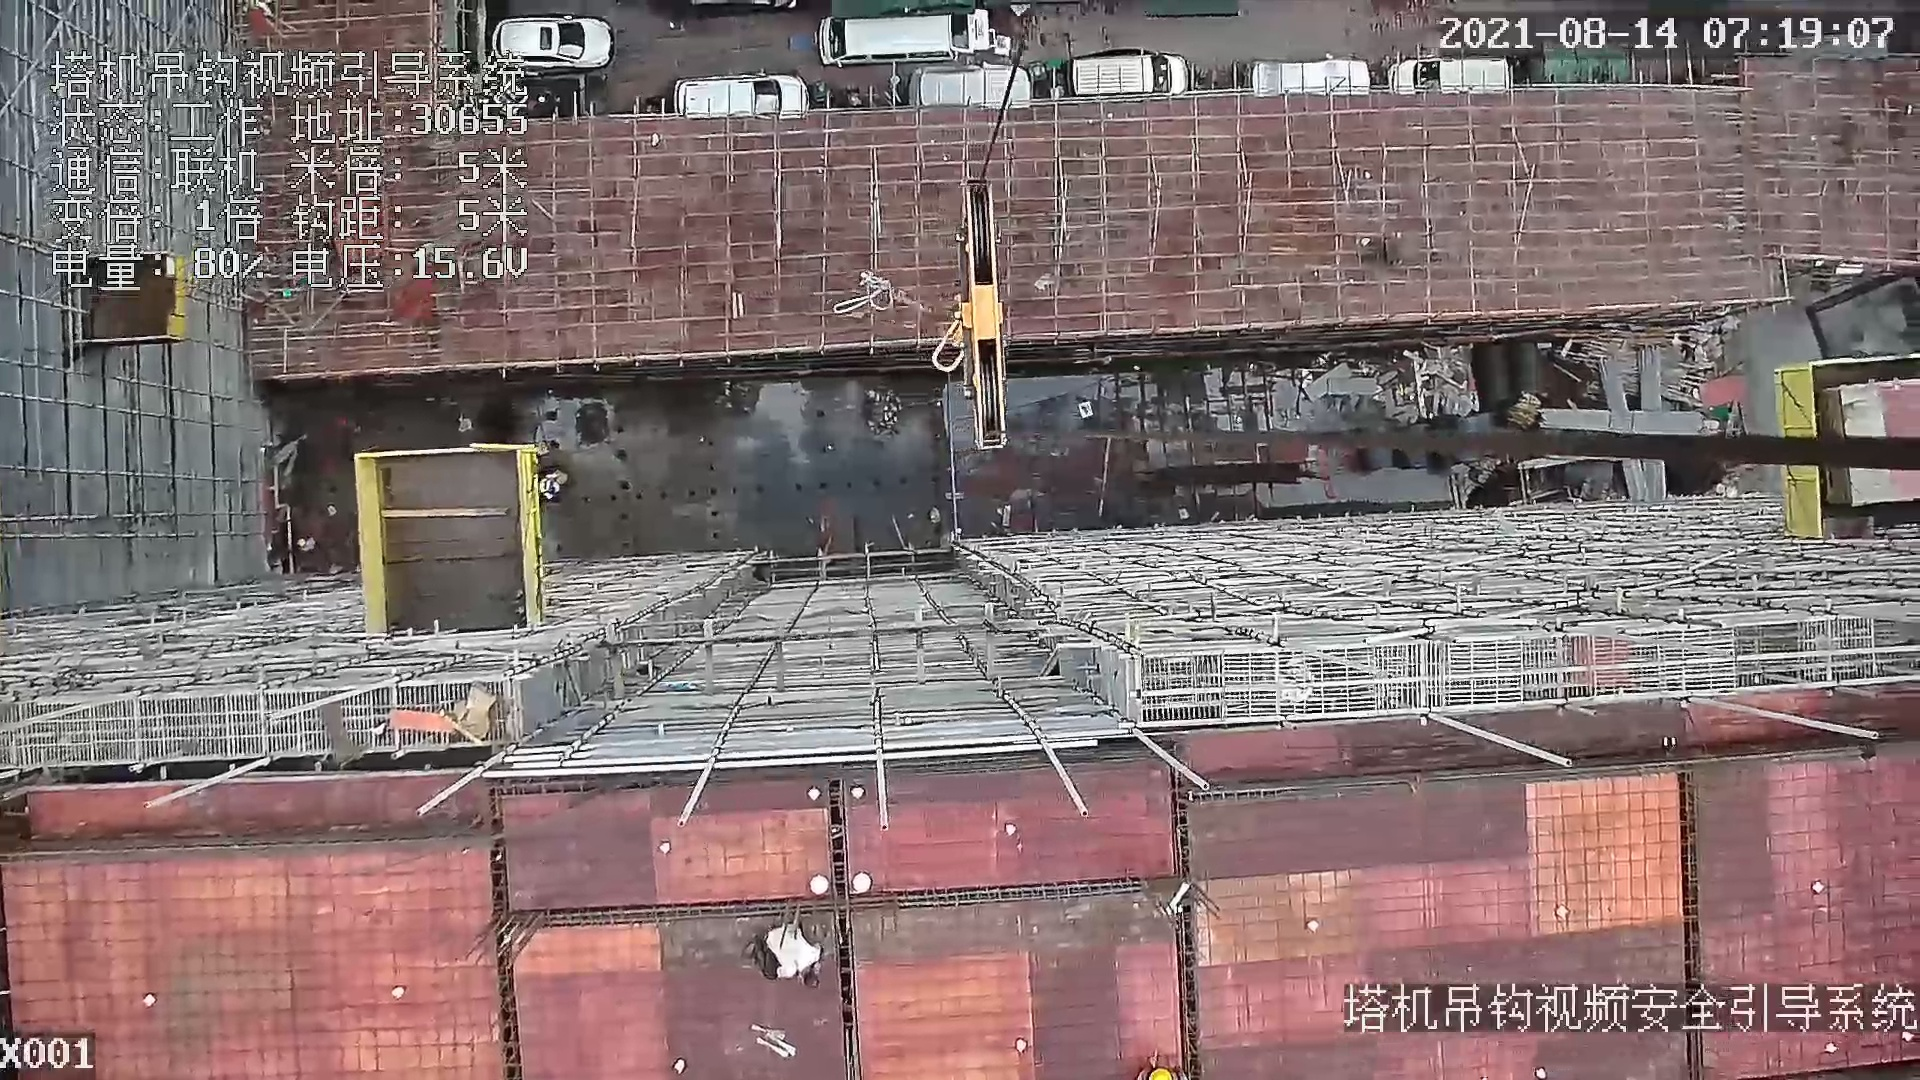hook: (932, 173, 1014, 453)
person: (754, 922, 837, 994)
